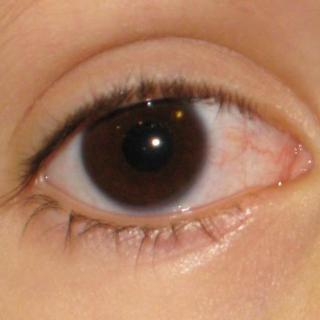pupil: (122, 121, 173, 173)
